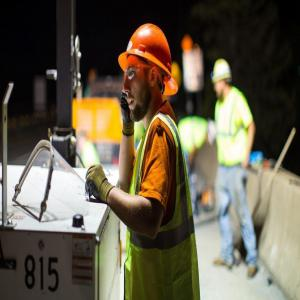red: (122, 24, 175, 119)
yellow: (212, 56, 233, 99)
